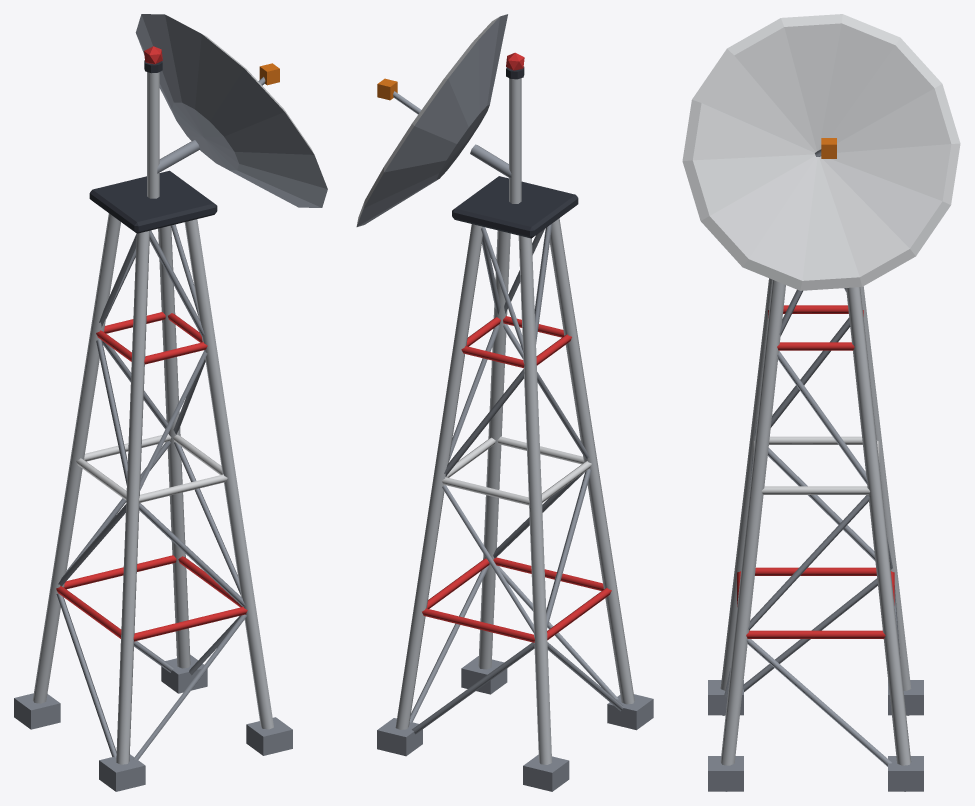
File: antenna.glb
3 views of the same model, side by side, from view 1: azimuth 30°, elevation 25°; view 2: azimuth 150°, elevation 25°; view 3: azimuth 270°, elevation 25° (orthographic). The views are drawn at different scales.
Visible parts, largest first — view 1: Body; view 2: Body; view 3: Body.
Boxes of the visible parts, bbox=[...] form: Body: bbox=[14, 14, 327, 791]; Body: bbox=[356, 14, 653, 791]; Body: bbox=[682, 14, 960, 791].
Size of the model in its own units: 2.46 by 7.36 by 2.47.
